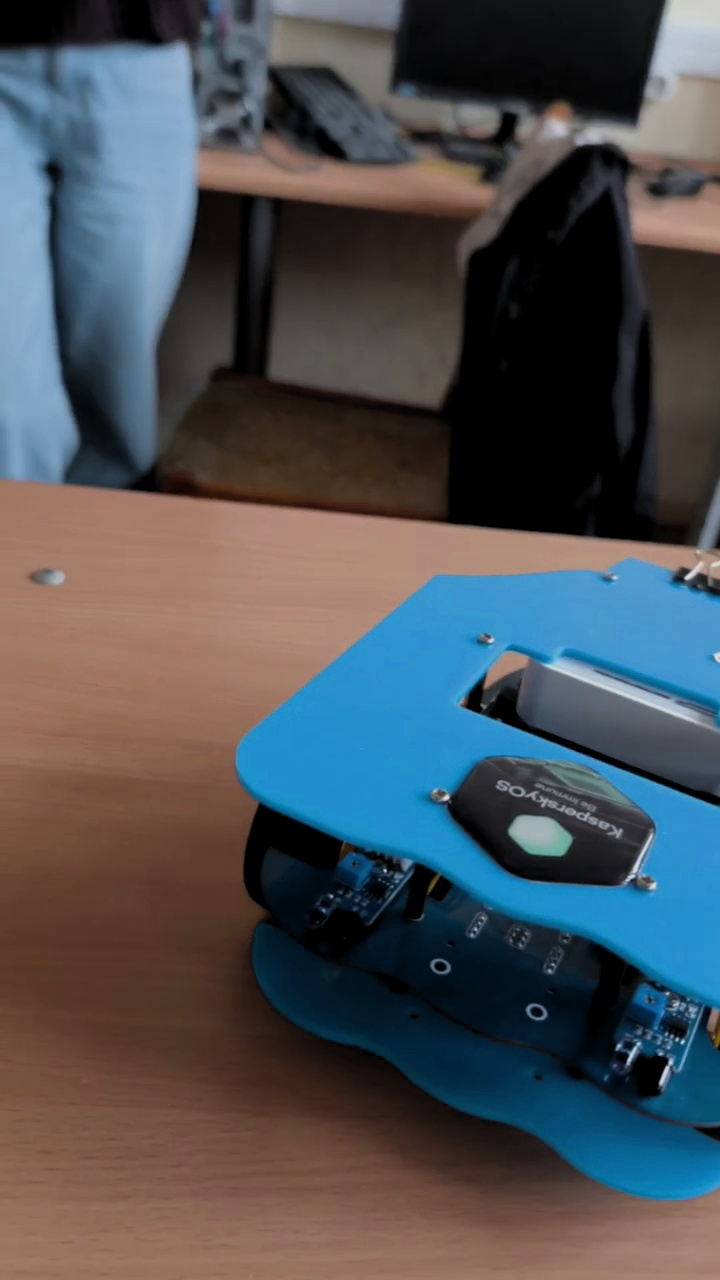robot: (234, 541, 720, 1203)
